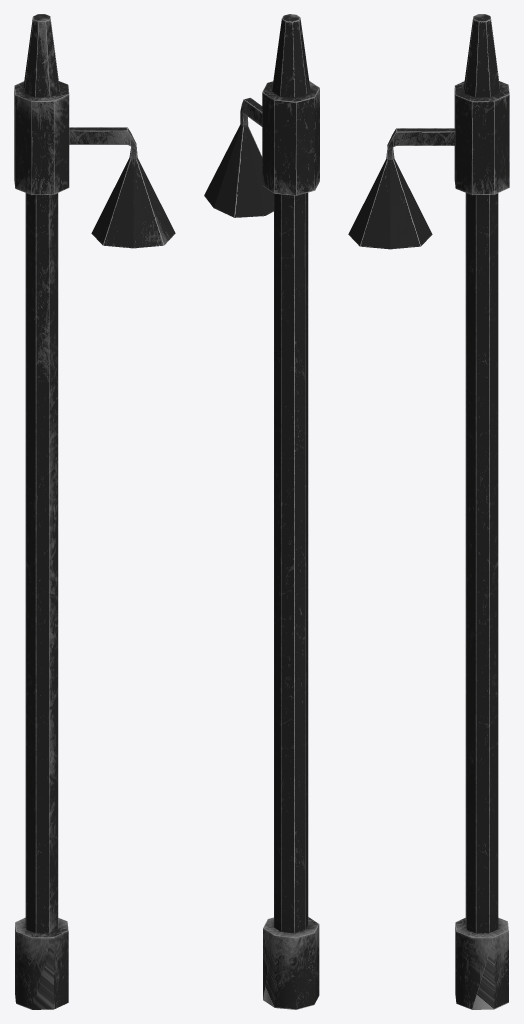
Rendered from Light_Post_Fixed.fbx.
3 renders of one model, left to right at view 1: azimuth 90°, elevation 25°; view 2: azimuth 210°, elevation 25°; view 3: azimuth 270°, elevation 25°, orthographic.
Visible parts, largest first — view 1: LightPost; view 2: LightPost; view 3: LightPost.
Part boxes in pixels (left/top/right/bottom): LightPost: left=14, top=14, right=175, bottom=1009; LightPost: left=204, top=14, right=319, bottom=1009; LightPost: left=348, top=14, right=509, bottom=1009.
Bounding box in the file's own units: 0.5099 × 1.16 × 7.8.
